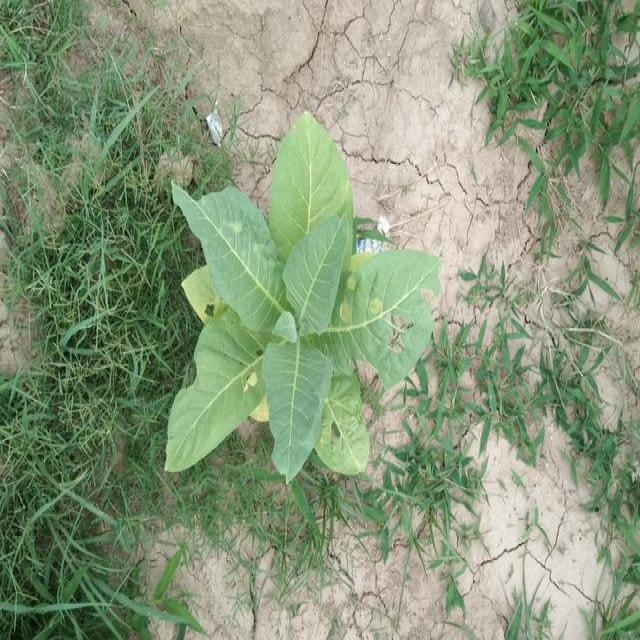crop: (166, 104, 443, 495)
